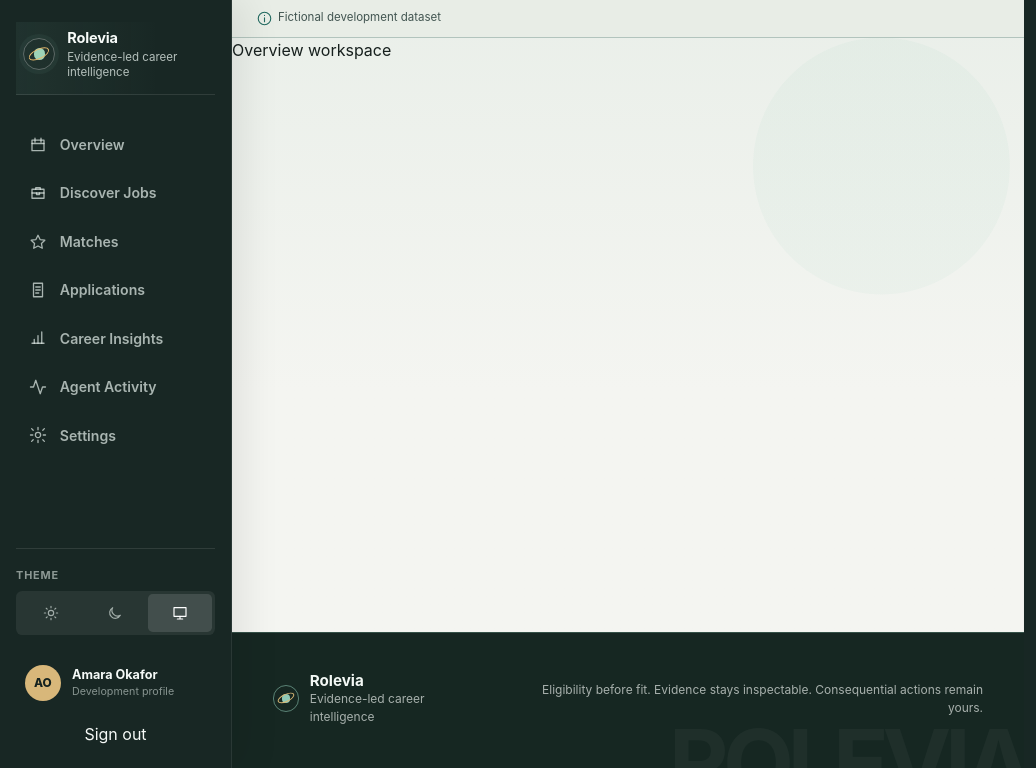
Test case: application shell navigation › navigates between real product destinations
Expected: the heading "Overview workspace" is shown, x1=232 y1=40 x2=391 y2=60
Expected: the text "Fictional development dataset" is shown, x1=257 y1=9 x2=441 y2=27
Step 1. Click the link "Applications" → (87, 290), box x1=29 y1=281 x2=145 y2=299
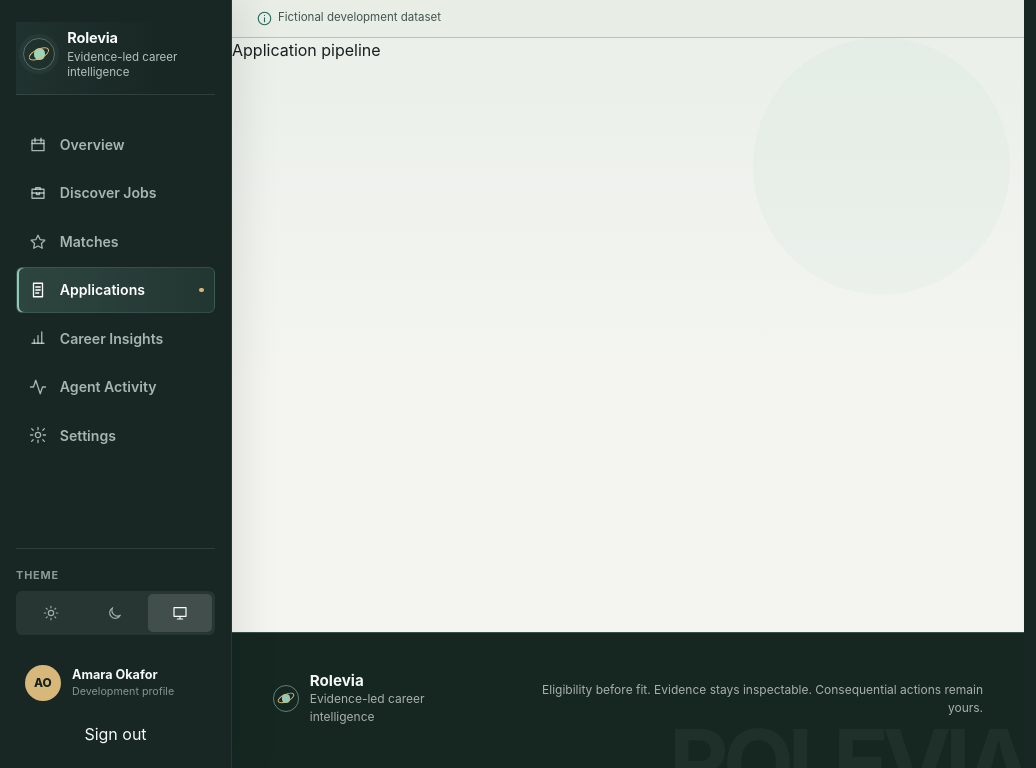
Now the heading "Application pipeline" is shown, box x1=232 y1=40 x2=381 y2=60
